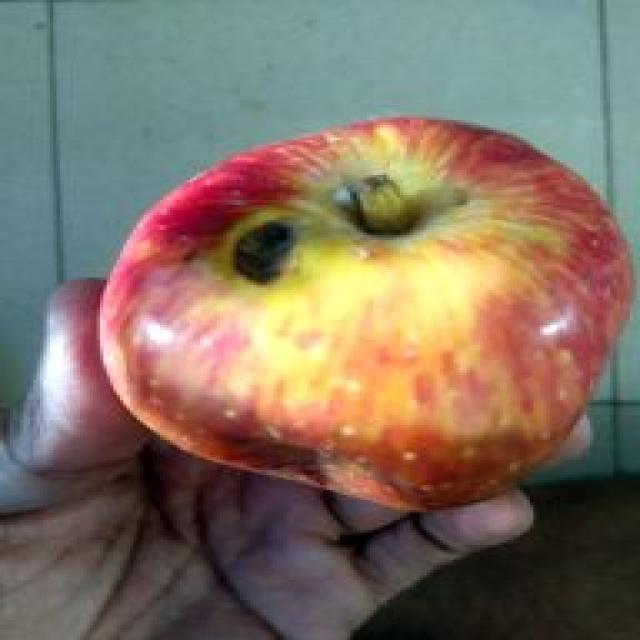Bad_Apple: (100, 118, 632, 509)
